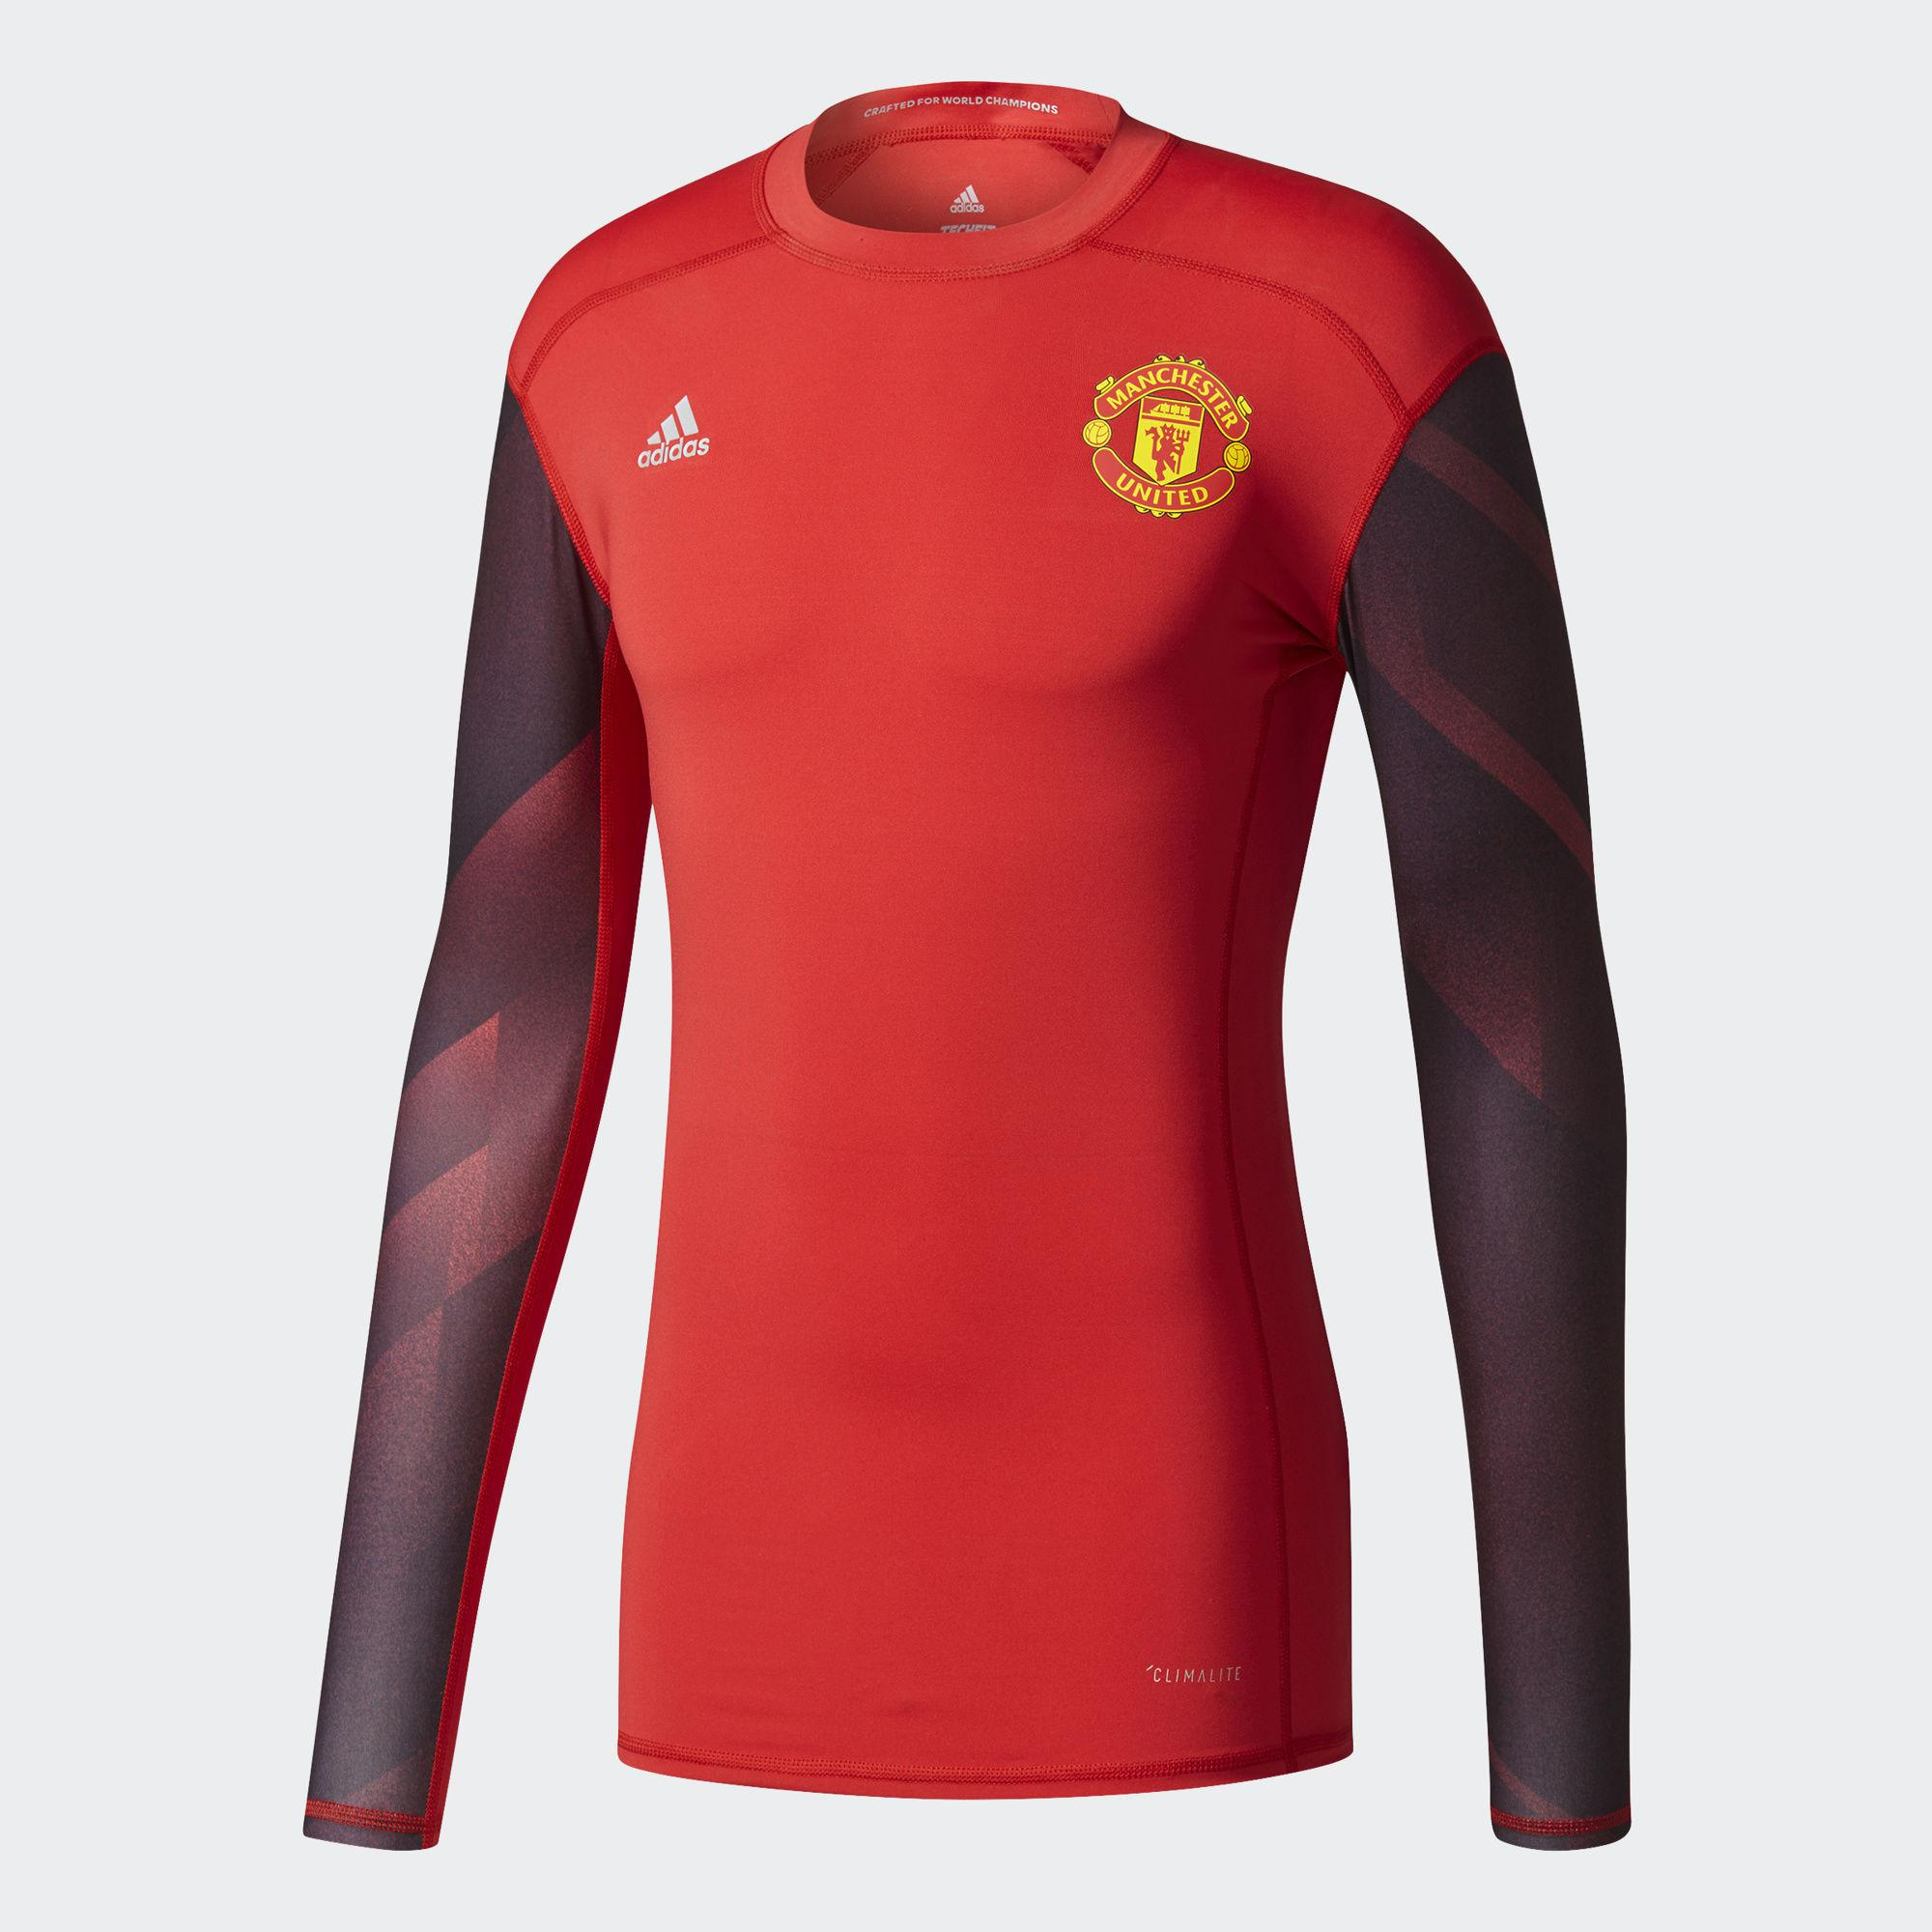teeshirt: (274, 64, 1691, 1932)
